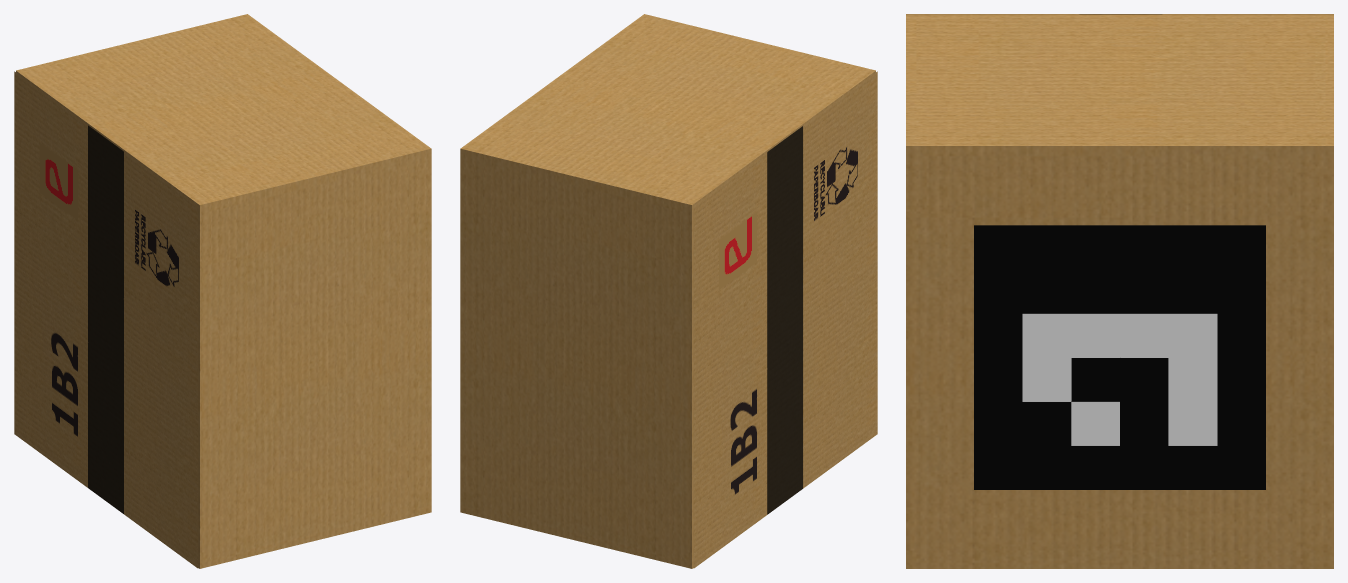
3 renders of one model, left to right at view 1: azimuth 30°, elevation 25°; view 2: azimuth 150°, elevation 25°; view 3: azimuth 270°, elevation 25°, orthographic. The views are drawn at different scales.
Parts seen in each view (by area): view 1: Cube, cardboard_bg; view 2: Cube, cardboard_bg; view 3: Cube, aruco_tag.
Part boxes in pixels (x1,y1,x2,y2): Cube: [16, 14, 431, 568]; cardboard_bg: [14, 71, 198, 568]; Cube: [460, 14, 875, 568]; cardboard_bg: [693, 71, 877, 568]; Cube: [906, 14, 1333, 568]; aruco_tag: [974, 225, 1265, 489].
Bounding box in the file's own units: 0.1615 × 0.22 × 0.24.
